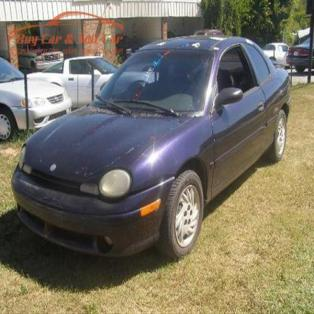Auto: (13, 38, 292, 262)
